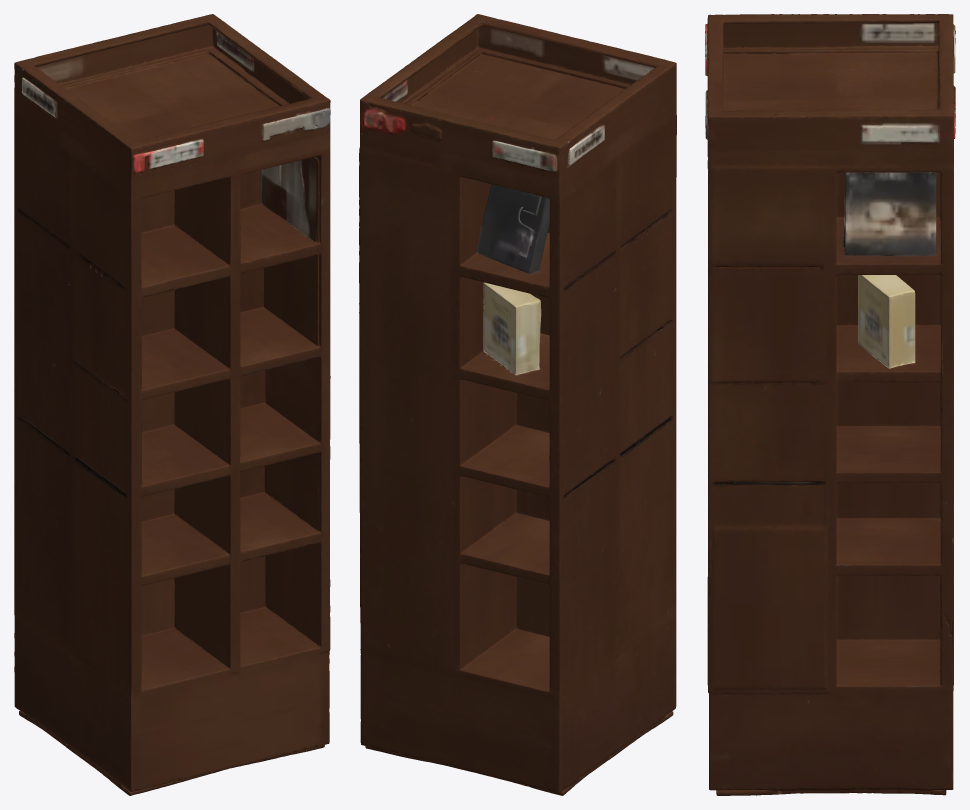
The model's file is asset.glb.
The picture shows the model from 3 angles, left to right: view 1: azimuth 30°, elevation 25°; view 2: azimuth 150°, elevation 25°; view 3: azimuth 270°, elevation 25°; orthographic projection. The views are drawn at different scales.
Parts seen in each view (by area): view 1: geometry_0; view 2: geometry_0; view 3: geometry_0.
Part boxes in pixels (box(x1,y1,x2,y2)): geometry_0: box(14, 14, 330, 795); geometry_0: box(359, 14, 676, 795); geometry_0: box(705, 14, 955, 795).
Bounding box in the file's own units: 0.3262 × 1 × 0.3341.
1 material, 1 textured.
